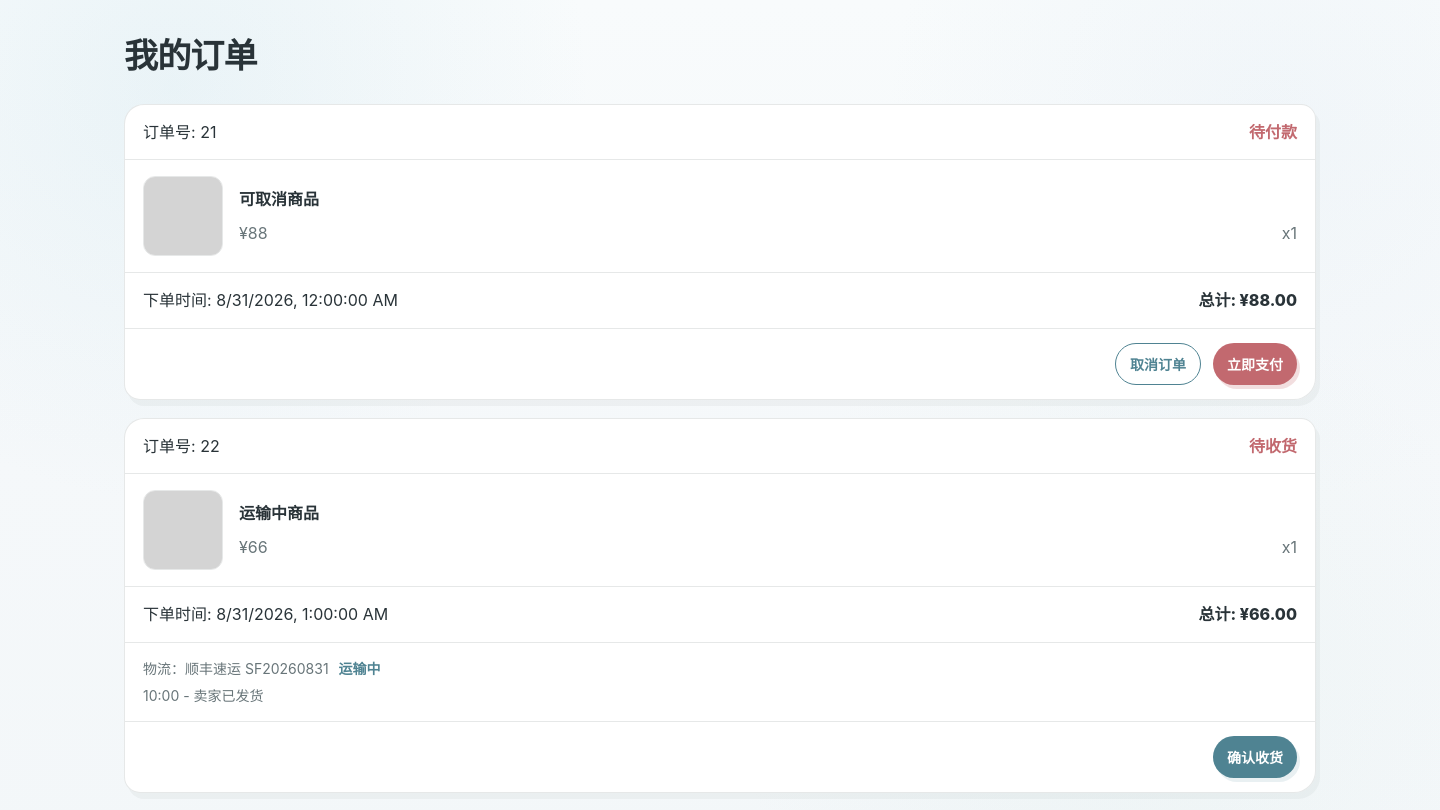
订单查询、取消与公开店铺页面 › UNIT-TC10/11: 展示订单和物流并将待付款订单更新为已取消
Expected: the text "可取消商品" is shown, [239, 189, 319, 209]
Expected: the text "物流：顺丰速运 SF20260831运输中" is shown, [143, 660, 381, 677]
Click the button "取消订单".
click(1158, 364)  # box [1115, 343, 1201, 385]
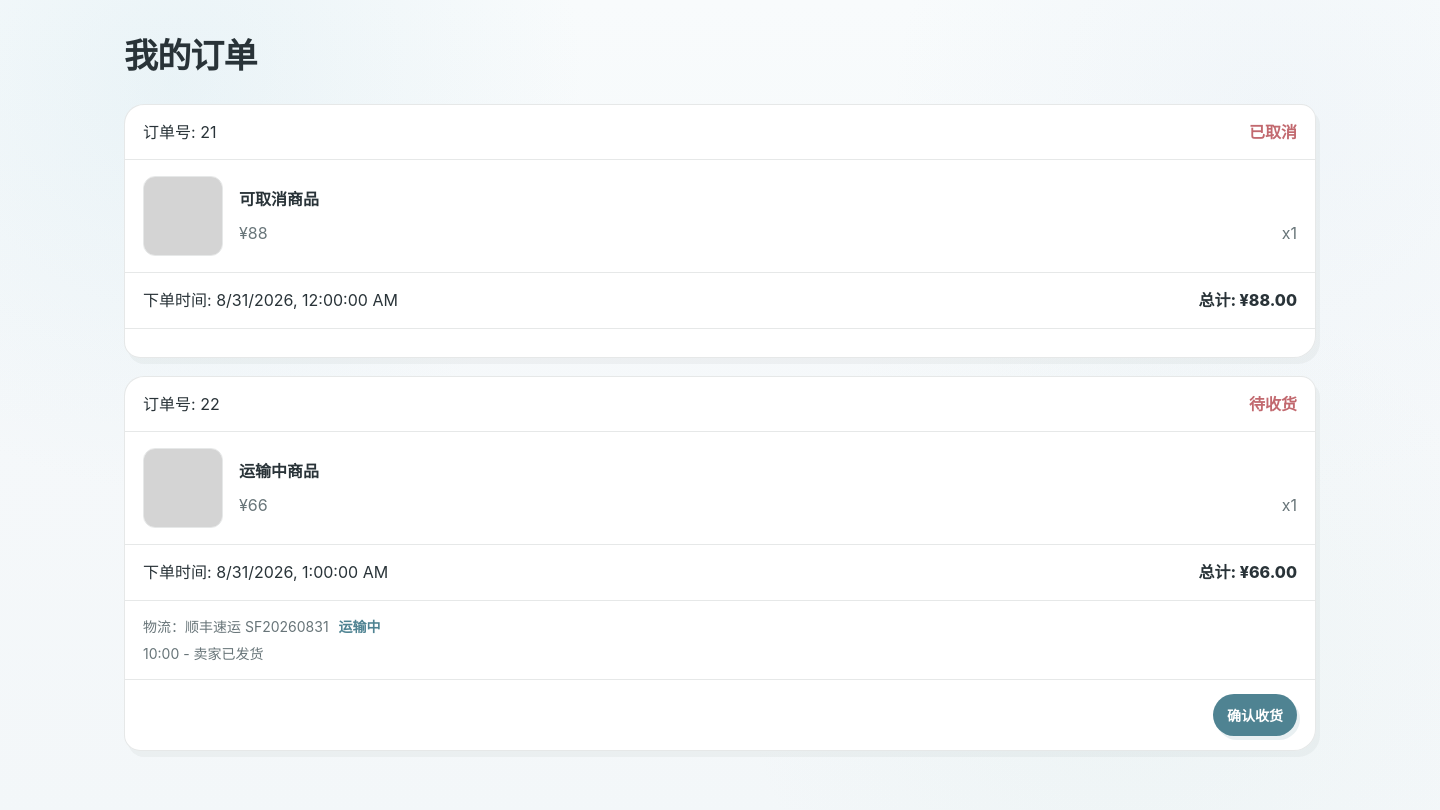
Expected: the text "已取消" is shown, [1249, 119, 1297, 146]
